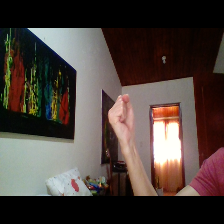9D: (102, 90, 139, 144)
